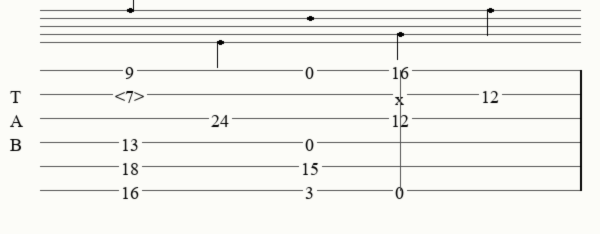0: (305, 62, 318, 78), (305, 134, 318, 150), (395, 182, 408, 198)
12: (391, 110, 413, 126), (481, 86, 503, 102)
13: (121, 134, 143, 150)
15: (301, 158, 323, 174)
16: (121, 182, 143, 198), (391, 62, 413, 78)
18: (121, 158, 143, 174)
24: (211, 110, 233, 126)
3: (305, 182, 318, 198)
9: (125, 62, 138, 78)
harmonic: (115, 86, 148, 102)
x: (395, 88, 408, 100)
